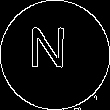N_S: (35, 30, 75, 80)
